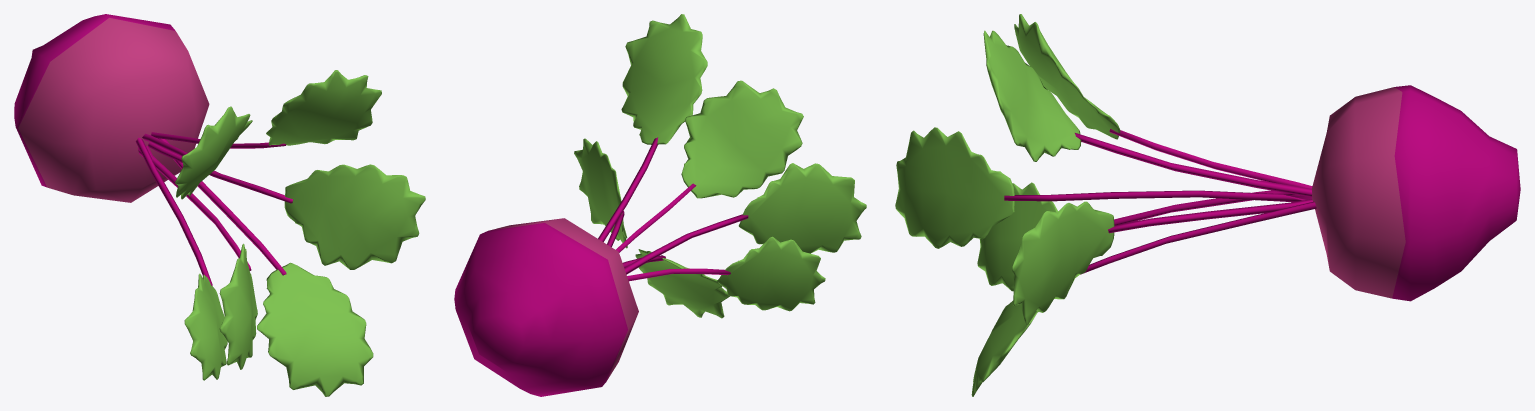
Rendered from beet.glb.
The picture shows the model from 3 angles, left to right: view 1: azimuth 30°, elevation 25°; view 2: azimuth 150°, elevation 25°; view 3: azimuth 270°, elevation 25°; orthographic projection. The views are drawn at different scales.
Visible parts, largest first — view 1: bett; view 2: bett; view 3: bett.
Boxes of the visible parts, box(x1,y1,x2,y2) form: bett: box(14, 14, 425, 396); bett: box(454, 14, 866, 396); bett: box(895, 14, 1520, 396).
Bounding box in the file's own units: 1.53 × 1.82 × 2.88.
